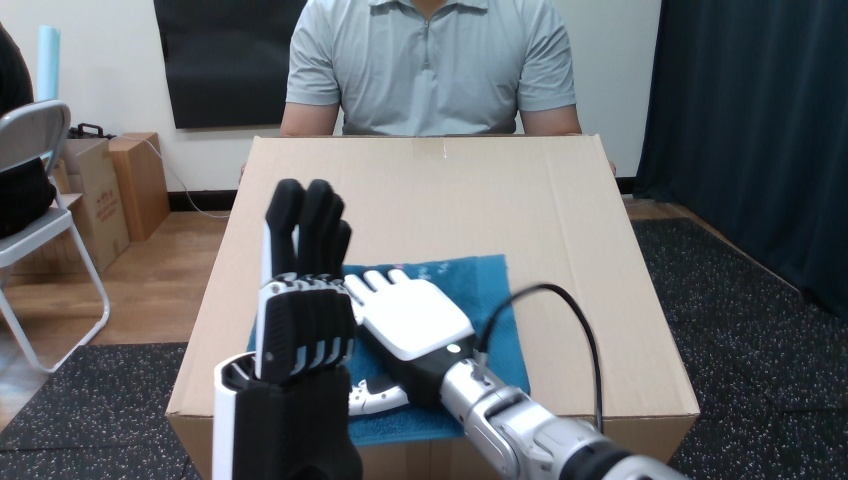left robot hand: (212, 179, 686, 479), (343, 269, 685, 479), (212, 179, 361, 478), (485, 289, 597, 427)
